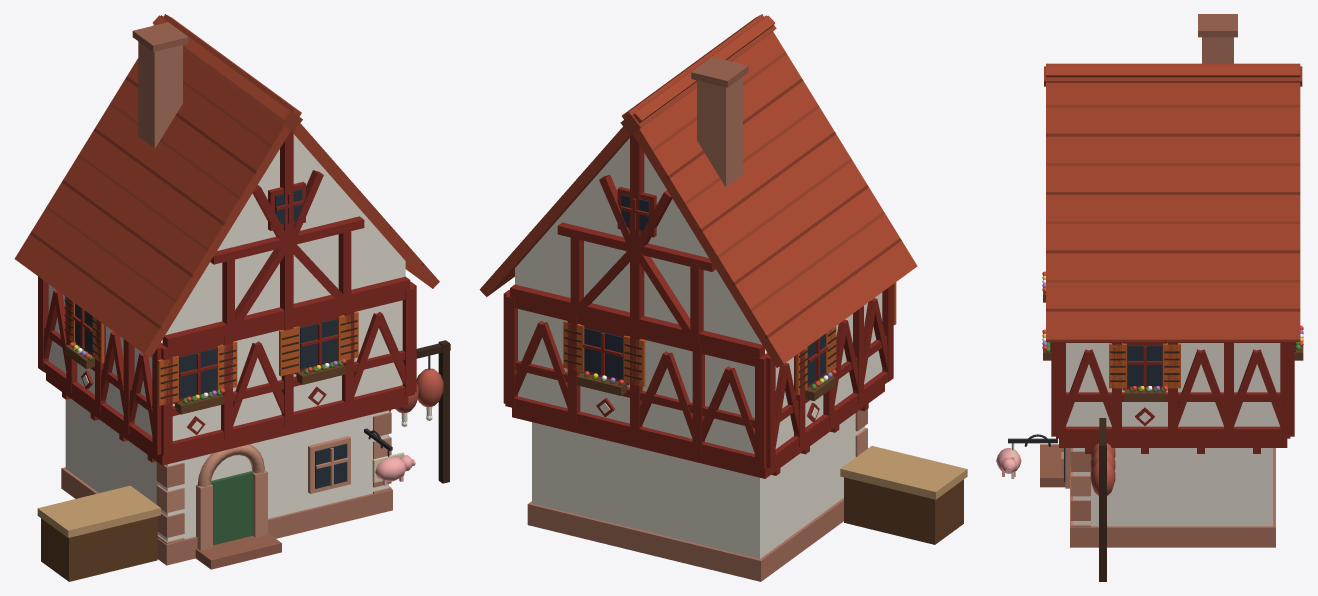
Rendered from metzger.glb.
3 views of the same model, side by side, from view 1: azimuth 30°, elevation 25°; view 2: azimuth 150°, elevation 25°; view 3: azimuth 270°, elevation 25° (orthographic). The views are drawn at different scales.
Bounding box in the file's own units: 4.47 × 4.96 × 3.07.
